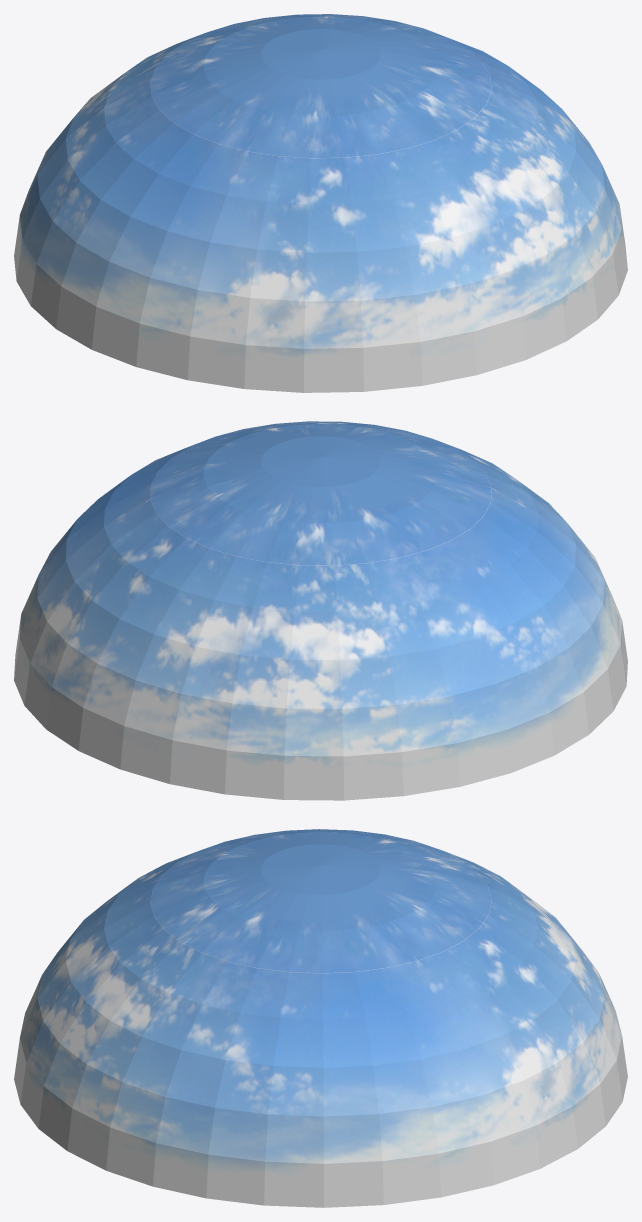
File: spa_sky.glb
3 renders of one model, top to bottom at view 1: azimuth 30°, elevation 25°; view 2: azimuth 150°, elevation 25°; view 3: azimuth 270°, elevation 25°, orthographic.
Bounding box in the file's own units: 2200 × 841 × 2200.
2 materials, 2 textured.
